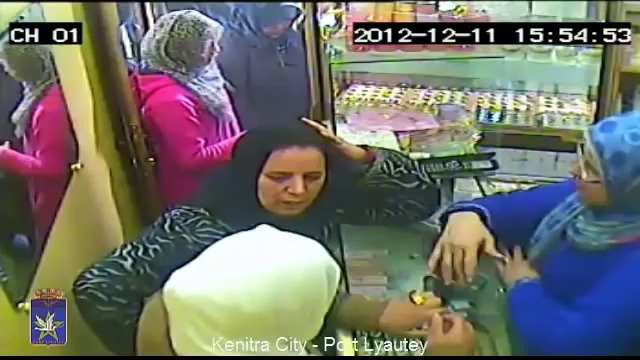face: (255, 151, 326, 220)
